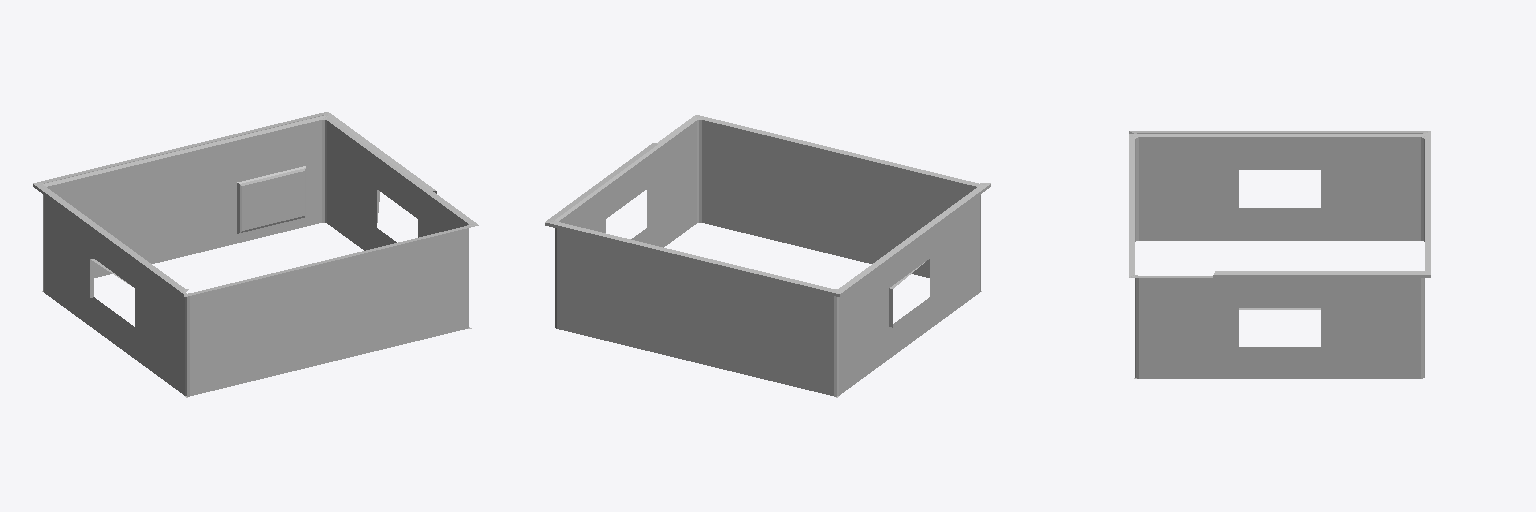
The model's file is lt2badan.obj.
3 renders of one model, left to right at view 1: azimuth 30°, elevation 25°; view 2: azimuth 150°, elevation 25°; view 3: azimuth 270°, elevation 25°, orthographic.
Visible parts, largest first — view 1: Shop_Low_5; view 2: Shop_Low_5; view 3: Shop_Low_5.
Part boxes in pixels (bbox=[...]): Shop_Low_5: bbox=[33, 112, 478, 397]; Shop_Low_5: bbox=[545, 115, 990, 397]; Shop_Low_5: bbox=[1129, 131, 1430, 378].
Bounding box in the file's own units: 9.75 × 3.39 × 8.65.